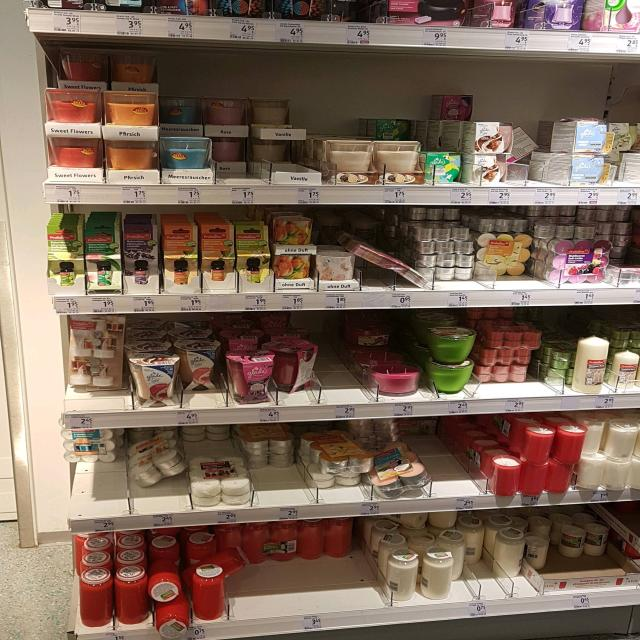void: (320, 320, 354, 418), (463, 416, 489, 511), (438, 416, 460, 510)
